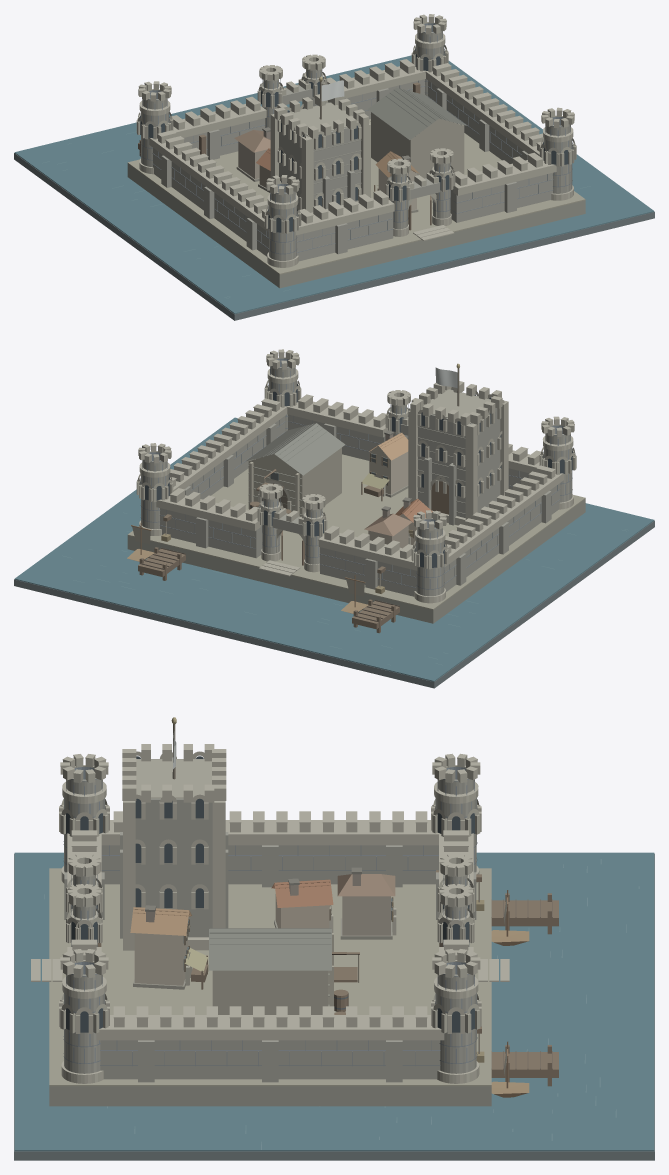
Rendered from harbor-1.glb.
The picture shows the model from 3 angles, top to bottom: view 1: azimuth 30°, elevation 25°; view 2: azimuth 150°, elevation 25°; view 3: azimuth 270°, elevation 25°; orthographic projection. The views are drawn at different scales.
Parts seen in each view (by area): view 1: دژ بندرگاهی; view 2: دژ بندرگاهی; view 3: دژ بندرگاهی.
Boxes of the visible parts, x1,y1,x2,y2 form: دژ بندرگاهی: (14, 14, 654, 320); دژ بندرگاهی: (14, 349, 654, 688); دژ بندرگاهی: (14, 717, 654, 1160).
Size of the model in its own units: 11 by 4.24 by 10.
